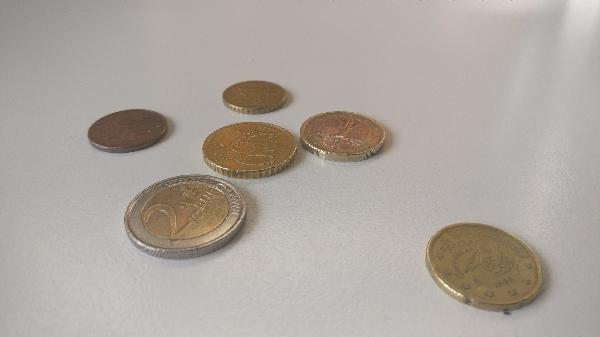Fifty Cent: (202, 121, 297, 177)
Five Cent: (86, 104, 168, 154)
One Euro: (300, 110, 386, 160)
Ten Cent: (222, 79, 289, 113)
Twenty Cent: (421, 221, 549, 315)
Two Euro: (123, 172, 257, 261)
